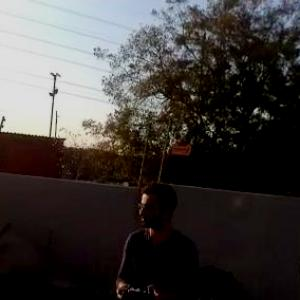follow: (106, 172, 202, 299)
